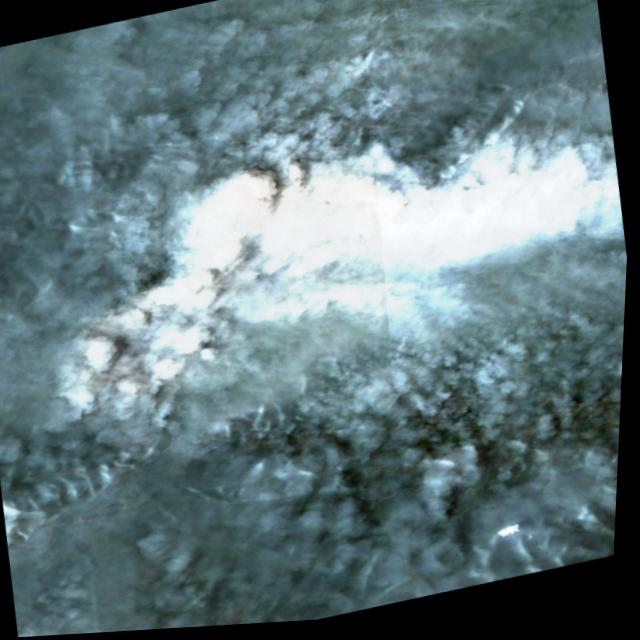fire: (33, 158, 314, 410)
